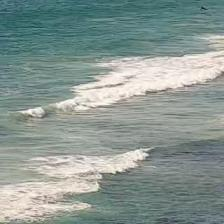surfer: (201, 6, 208, 11)
